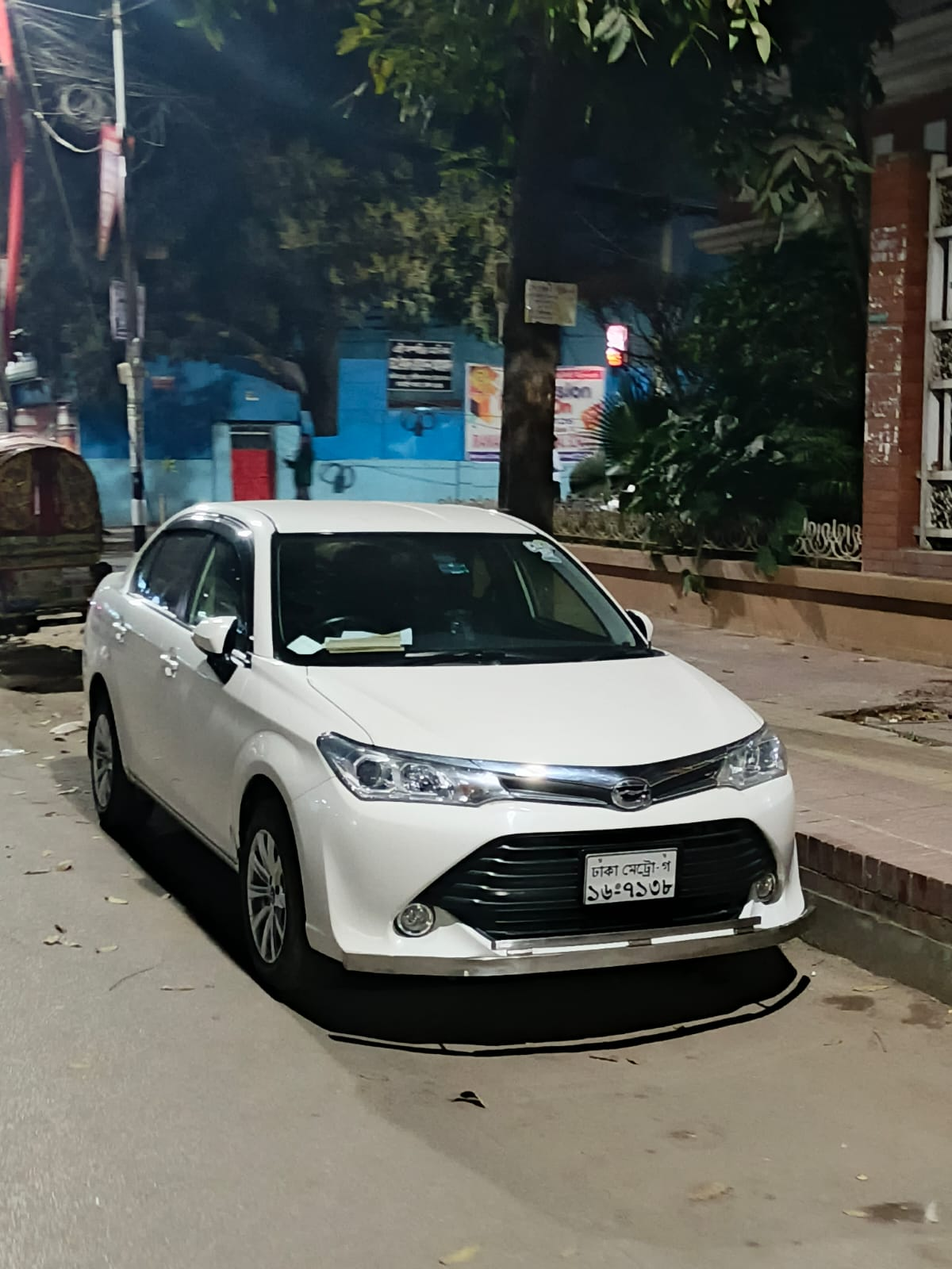private car: (56, 477, 833, 1025)
